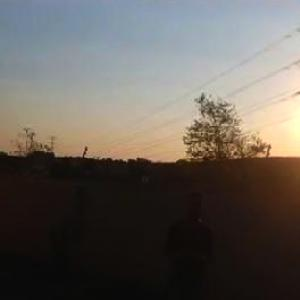follow: (155, 184, 217, 299)
